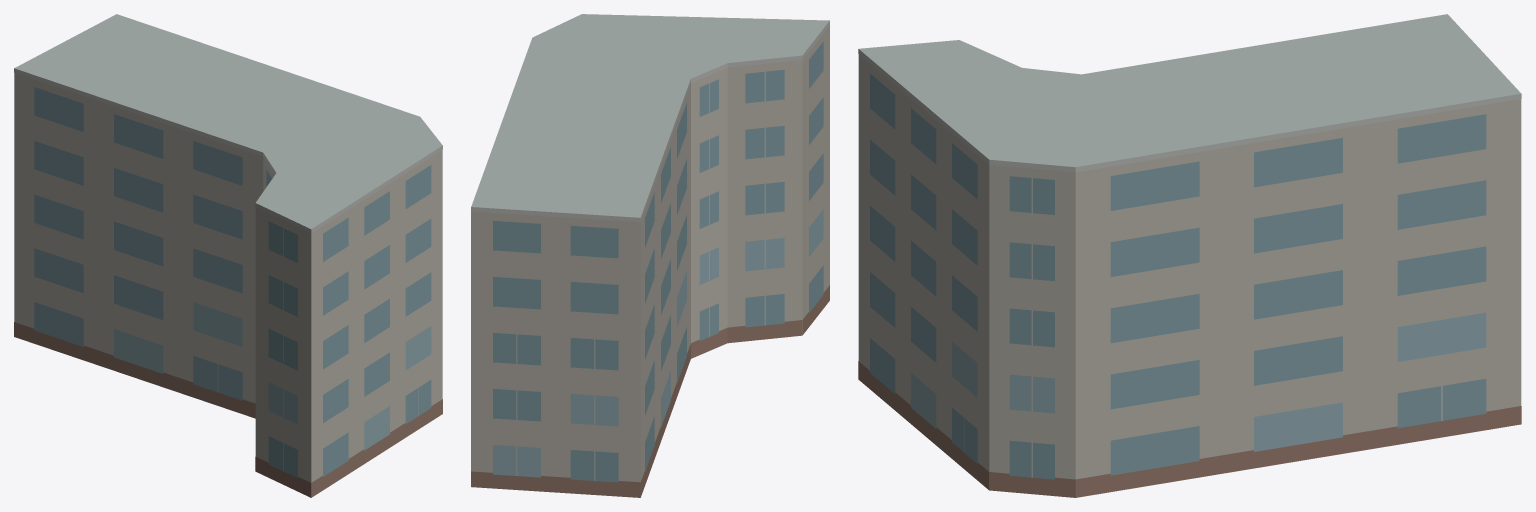
Rendered from residential-17e64f0e-c5ea-4322-9db8-c9f82c3b9250.glb.
3 renders of one model, left to right at view 1: azimuth 30°, elevation 25°; view 2: azimuth 150°, elevation 25°; view 3: azimuth 270°, elevation 25°, orthographic. The views are drawn at different scales.
Visible parts, largest first — view 1: residential-17e64f0e-c5ea-4322-9db8-c9f82c3b9250.tmp; view 2: residential-17e64f0e-c5ea-4322-9db8-c9f82c3b9250.tmp; view 3: residential-17e64f0e-c5ea-4322-9db8-c9f82c3b9250.tmp.
Boxes of the visible parts, bbox=[...] form: residential-17e64f0e-c5ea-4322-9db8-c9f82c3b9250.tmp: bbox=[14, 14, 442, 497]; residential-17e64f0e-c5ea-4322-9db8-c9f82c3b9250.tmp: bbox=[471, 14, 829, 497]; residential-17e64f0e-c5ea-4322-9db8-c9f82c3b9250.tmp: bbox=[858, 14, 1521, 497].
Bounding box in the file's own units: 15.16 × 15.25 × 27.72.
